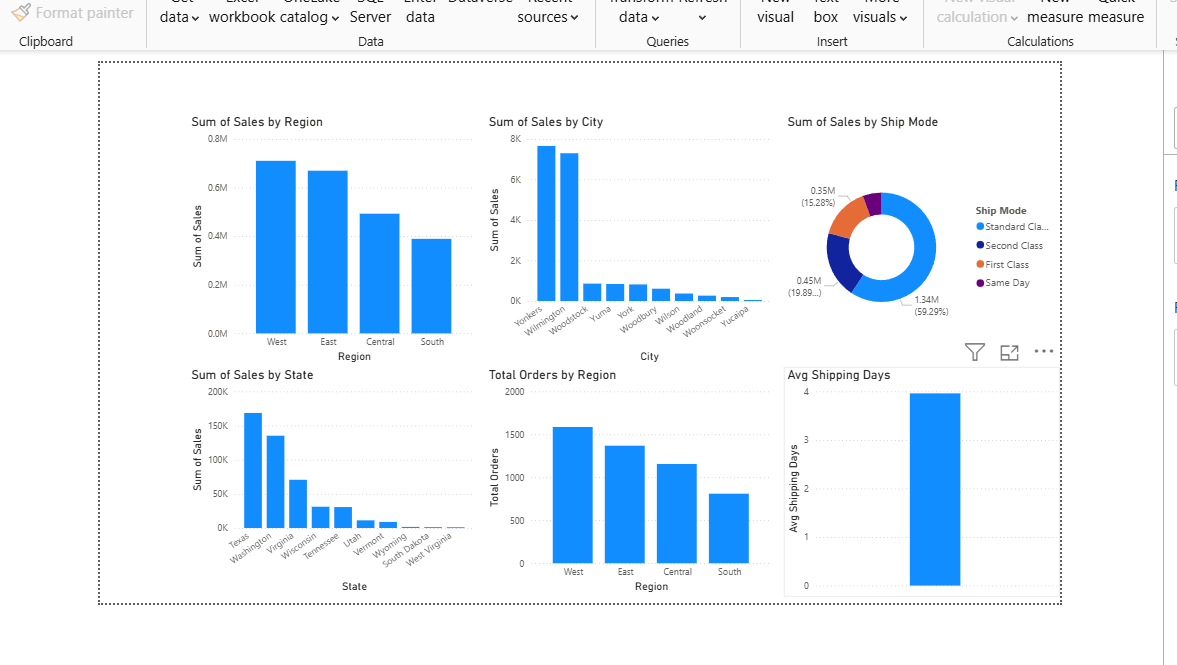

What the dashboard file says about the page in this screenshot:
{"tool":"powerbi","page":{"name":"Regional Analysis","canvas":[1280,720],"ordinal":2},"visuals":[{"type":"columnChart","fields":{"Category":["sales.Region"],"Y":["Sum(sales.Sales)"]},"box":[116.6,68.6,387,336.2],"z":0},{"type":"columnChart","fields":{"Category":["sales.State"],"Y":["Sum(sales.Sales)"]},"box":[116.6,404.8,387,306],"z":1000},{"type":"columnChart","fields":{"Category":["sales.City"],"Y":["Sum(sales.Sales)"]},"box":[514,69,387,336],"z":2000},{"type":"columnChart","fields":{"Category":["sales.Region"],"Y":["sales.Total Orders"]},"box":[514,405,387,306],"z":3000},{"type":"donutChart","fields":{"Category":["sales.Ship Mode"],"Y":["Sum(sales.Sales)"]},"box":[911,69,369,336],"z":4000},{"type":"columnChart","fields":{"Y":["sales.Avg Shipping Days"]},"box":[911,405,369,306],"z":5000}]}

Visuals, with their boxes on the page's 1280x720 design canvas (x1, y1, x2, y2). These are canvas units, not pixel positions in the 1177x665 screenshot, which may show the page scaled, cropped or inside an application window:
columnChart - sales.Region x Sum(sales.Sales): 117, 69, 504, 405
columnChart - sales.State x Sum(sales.Sales): 117, 405, 504, 711
columnChart - sales.City x Sum(sales.Sales): 514, 69, 901, 405
columnChart - sales.Region x sales.Total Orders: 514, 405, 901, 711
donutChart - sales.Ship Mode x Sum(sales.Sales): 911, 69, 1280, 405
columnChart - sales.Avg Shipping Days: 911, 405, 1280, 711
